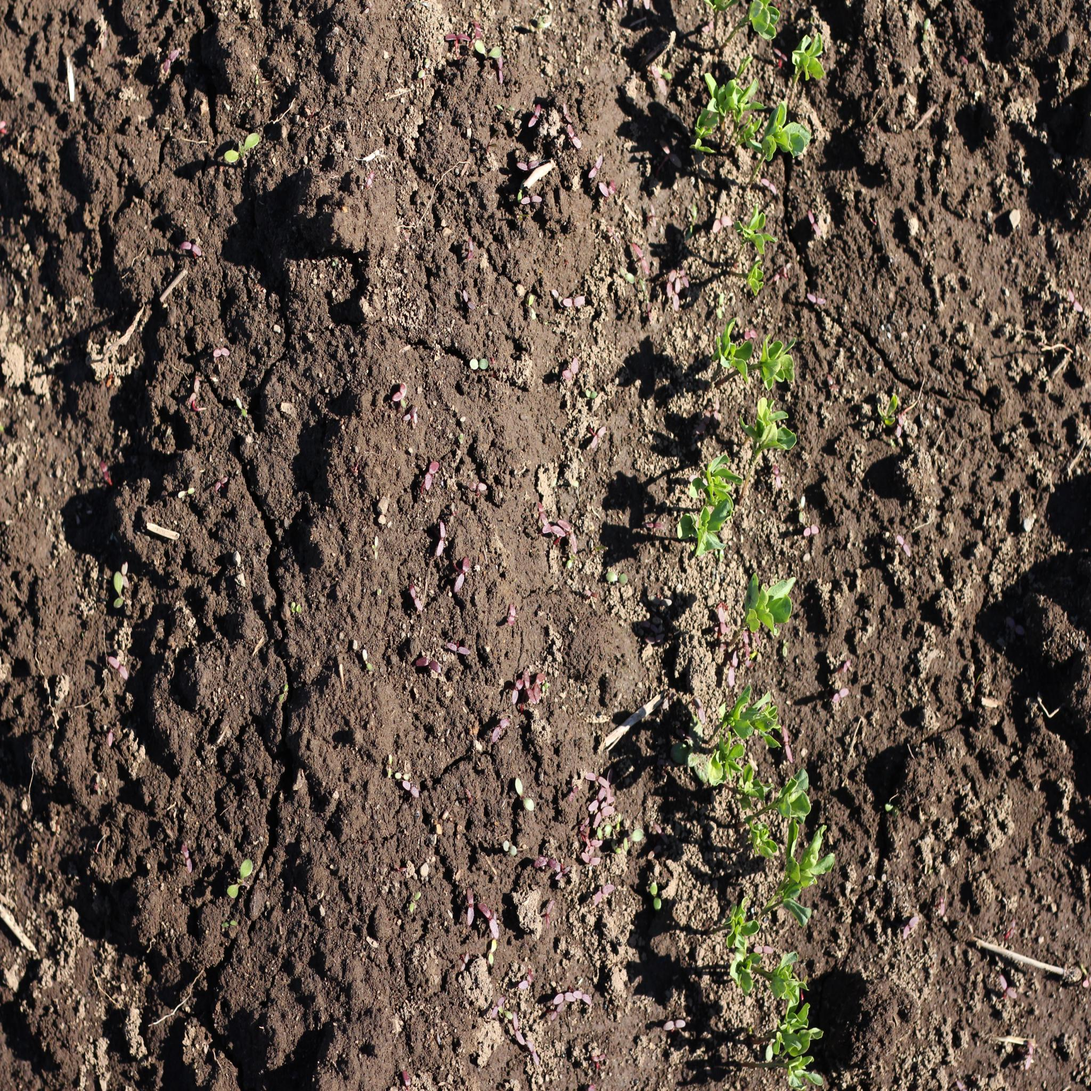AMBEL: (221, 131, 261, 165), (225, 858, 255, 902), (513, 778, 534, 814), (111, 568, 126, 612), (472, 39, 502, 60), (625, 827, 647, 852), (646, 879, 661, 914), (603, 566, 628, 584), (607, 572, 632, 588), (595, 827, 618, 842), (408, 890, 421, 915), (468, 355, 488, 371), (487, 938, 497, 968), (235, 395, 248, 418), (501, 840, 517, 858), (361, 650, 373, 674), (526, 292, 536, 320), (799, 492, 808, 523), (418, 56, 429, 81), (624, 266, 638, 284), (924, 17, 932, 46), (279, 684, 289, 707), (177, 485, 196, 497), (919, 18, 927, 46), (221, 919, 238, 931), (587, 386, 601, 399), (290, 598, 302, 613), (495, 103, 514, 112)
LENCU: (778, 819, 834, 921), (697, 56, 761, 128), (719, 680, 780, 742), (762, 998, 821, 1056), (743, 569, 794, 635), (738, 394, 795, 452), (763, 99, 813, 161), (678, 501, 734, 555), (715, 316, 753, 380), (702, 734, 746, 789), (775, 765, 814, 825), (772, 949, 810, 1007), (761, 331, 798, 389), (705, 451, 744, 505), (725, 894, 762, 950), (738, 204, 779, 254), (791, 31, 828, 84), (747, 0, 784, 41), (787, 1054, 827, 1090), (730, 952, 763, 995), (740, 763, 772, 807), (748, 819, 781, 861), (740, 116, 764, 150), (702, 0, 743, 15), (748, 260, 766, 294)
POLPE: (558, 518, 580, 558), (478, 902, 502, 937), (651, 63, 676, 95), (542, 515, 566, 544), (106, 656, 130, 684), (585, 767, 612, 791), (634, 240, 652, 275), (662, 143, 685, 170), (651, 819, 672, 848), (453, 557, 469, 594), (783, 725, 797, 765), (593, 883, 615, 908), (580, 849, 607, 869), (1000, 974, 1019, 1002), (523, 669, 535, 712), (162, 48, 181, 75), (713, 212, 735, 235), (510, 673, 524, 709), (670, 279, 684, 315), (188, 375, 202, 410), (1005, 617, 1027, 639), (587, 791, 610, 812), (513, 1007, 525, 1047), (904, 913, 921, 941), (564, 354, 582, 380), (714, 598, 727, 634), (808, 207, 823, 238), (663, 265, 677, 298), (593, 422, 610, 449), (590, 153, 607, 180), (492, 718, 509, 745), (729, 651, 741, 689), (424, 458, 438, 490), (897, 531, 914, 557), (180, 239, 203, 258), (1068, 286, 1084, 313), (569, 124, 585, 150), (408, 586, 422, 615), (534, 669, 544, 709), (573, 989, 593, 1009), (414, 657, 437, 674), (664, 1018, 690, 1033), (181, 843, 193, 875), (436, 518, 446, 556), (401, 780, 420, 800), (554, 988, 574, 1007), (526, 1038, 539, 1067), (679, 265, 694, 290), (516, 969, 533, 991), (590, 809, 616, 823), (1026, 1039, 1037, 1072), (762, 176, 781, 195), (601, 178, 620, 197), (489, 996, 504, 1020), (564, 293, 588, 308), (100, 458, 113, 485), (526, 104, 540, 129), (833, 688, 852, 706), (808, 290, 829, 306), (464, 890, 473, 926), (461, 288, 475, 311), (391, 381, 407, 401), (897, 406, 907, 437), (543, 899, 554, 927), (697, 697, 708, 725), (445, 644, 470, 656), (776, 263, 791, 283), (515, 159, 538, 172), (702, 19, 719, 36), (403, 404, 418, 423), (1006, 919, 1018, 942), (557, 863, 573, 880), (804, 522, 822, 537), (650, 202, 660, 229), (755, 943, 777, 955), (774, 461, 783, 489), (212, 345, 230, 359), (400, 1068, 412, 1089), (214, 474, 229, 490), (521, 193, 541, 205), (642, 0, 659, 14), (841, 659, 854, 677), (443, 32, 469, 41), (647, 519, 668, 530), (105, 725, 116, 746), (552, 1006, 565, 1023), (459, 952, 469, 974), (495, 59, 503, 86), (572, 784, 582, 805), (533, 856, 548, 870), (364, 170, 375, 189), (470, 479, 486, 492), (939, 896, 948, 919), (465, 235, 473, 260), (828, 372, 839, 390), (536, 499, 545, 521), (648, 299, 656, 323), (430, 659, 441, 676), (506, 606, 514, 628), (564, 102, 573, 121), (472, 19, 481, 38), (594, 1053, 607, 1066), (0, 118, 9, 136), (401, 226, 410, 244), (464, 790, 473, 807), (393, 867, 409, 876), (552, 285, 563, 298), (610, 226, 619, 241), (587, 590, 599, 601), (956, 1079, 967, 1091), (956, 55, 967, 67), (960, 55, 971, 66), (351, 461, 358, 477), (588, 1083, 600, 1091)
